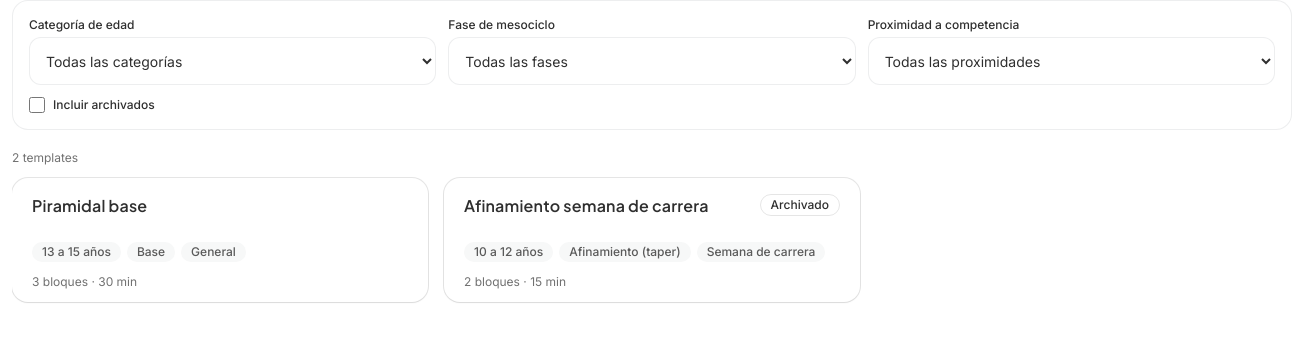
Test case: TemplatePicker — filtros › 'Limpiar filtros' resetea los filtros y oculta el botón
Select "10 a 12 años" in the dropdown labelled "Categoría de edad": (233, 61) x1=29 y1=37 x2=436 y2=85
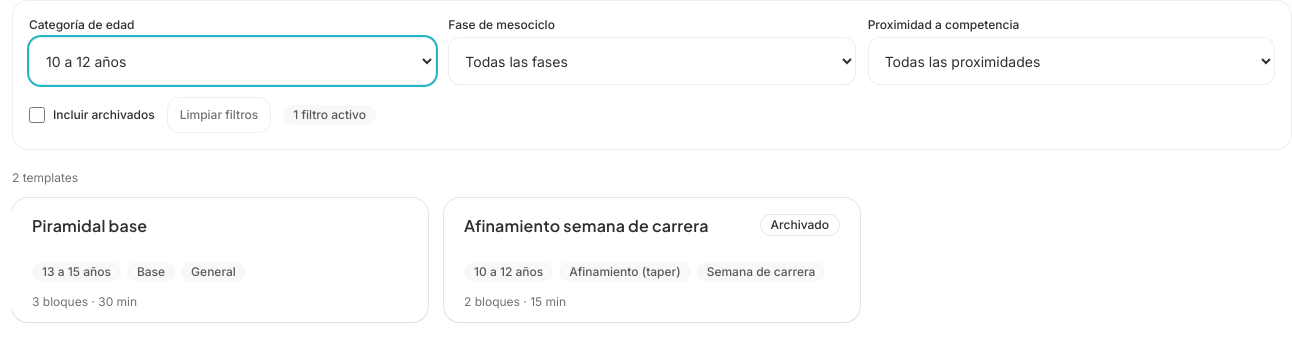
Click the button "Limpiar filtros": click(219, 115) x1=167 y1=97 x2=271 y2=133
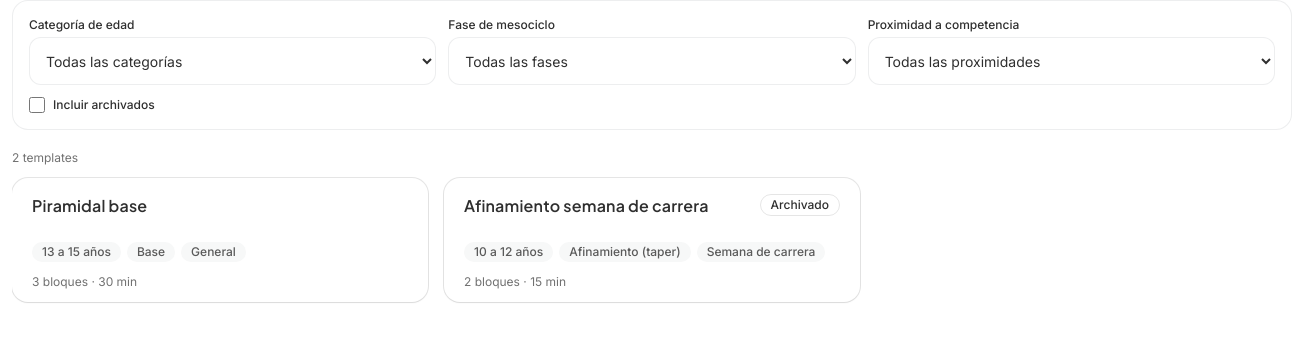
expect the button "Limpiar filtros" is gone: met
